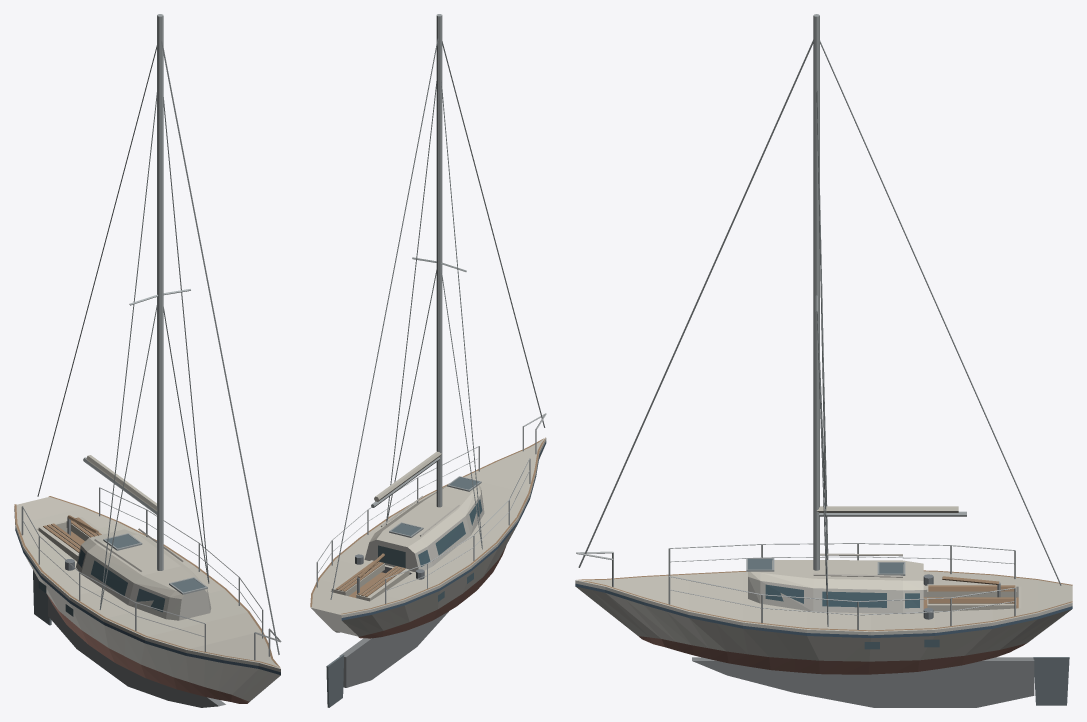
The model's file is kjp_contessa_26.glb.
The picture shows the model from 3 angles, left to right: view 1: azimuth 30°, elevation 25°; view 2: azimuth 150°, elevation 25°; view 3: azimuth 270°, elevation 25°; orthographic projection. The views are drawn at different scales.
Parts seen in each view (by area): view 1: Contessa 26; view 2: Contessa 26; view 3: Contessa 26.
Boxes of the visible parts, x1,y1,x2,y2 form: Contessa 26: (14, 14, 281, 707); Contessa 26: (310, 14, 546, 707); Contessa 26: (575, 14, 1072, 707).
Bounding box in the file's own units: 2.28 × 11.91 × 7.77.
